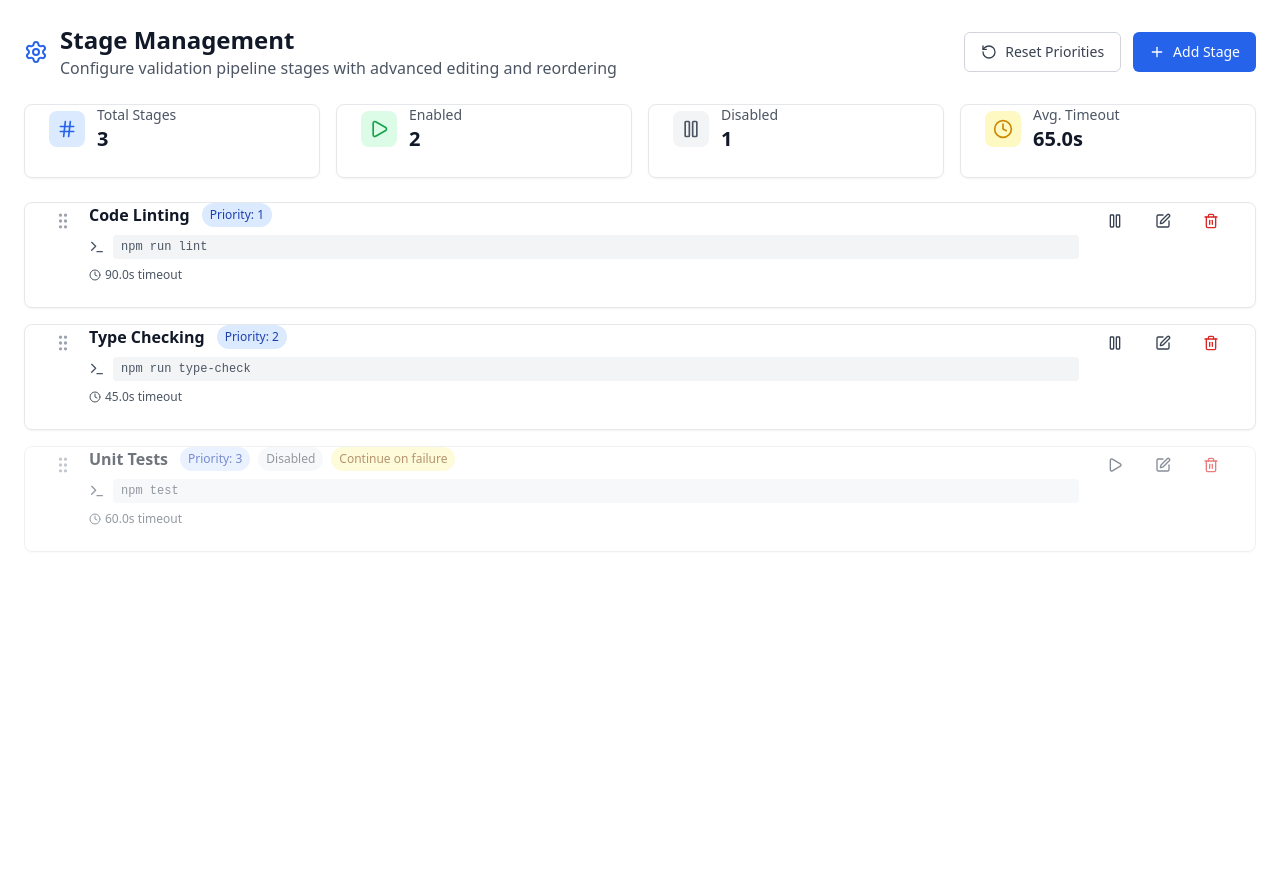
it: StageManagement › shows add stage form when add button is clicked
Click the button "Add Stage": x=1195, y=52 [1133,32,1256,72]
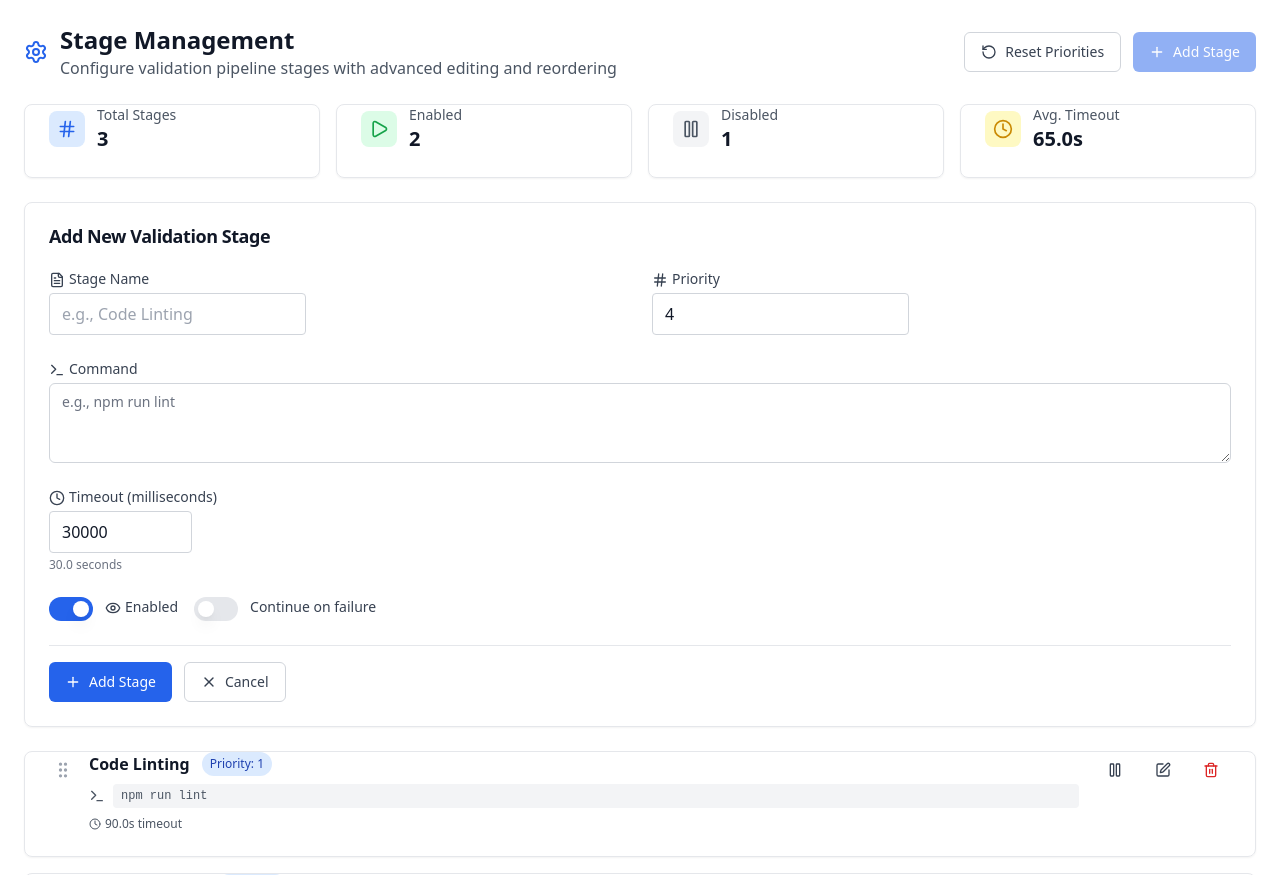
Expected: the heading "Add New Validation Stage" is shown, [49,224,270,248]
Expected: the field labelled "Stage Name" is shown, [49,293,306,335]
Expected: the text box labelled "Command" is shown, [49,383,1231,463]
